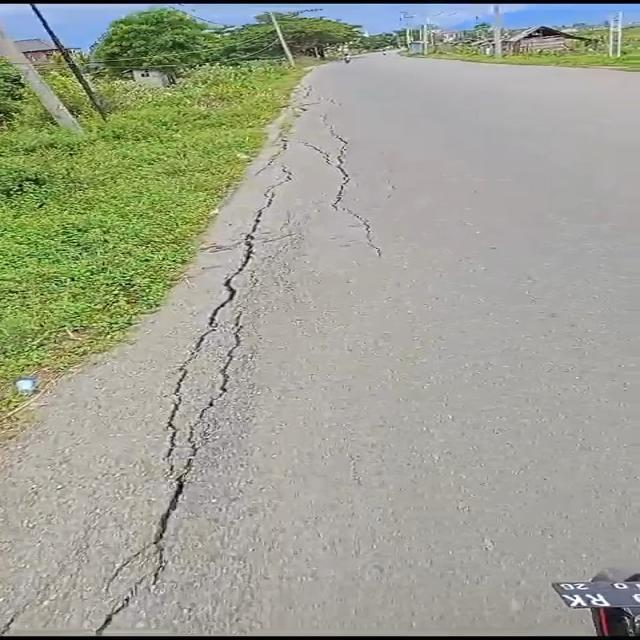Pinggir: (70, 79, 331, 572)
